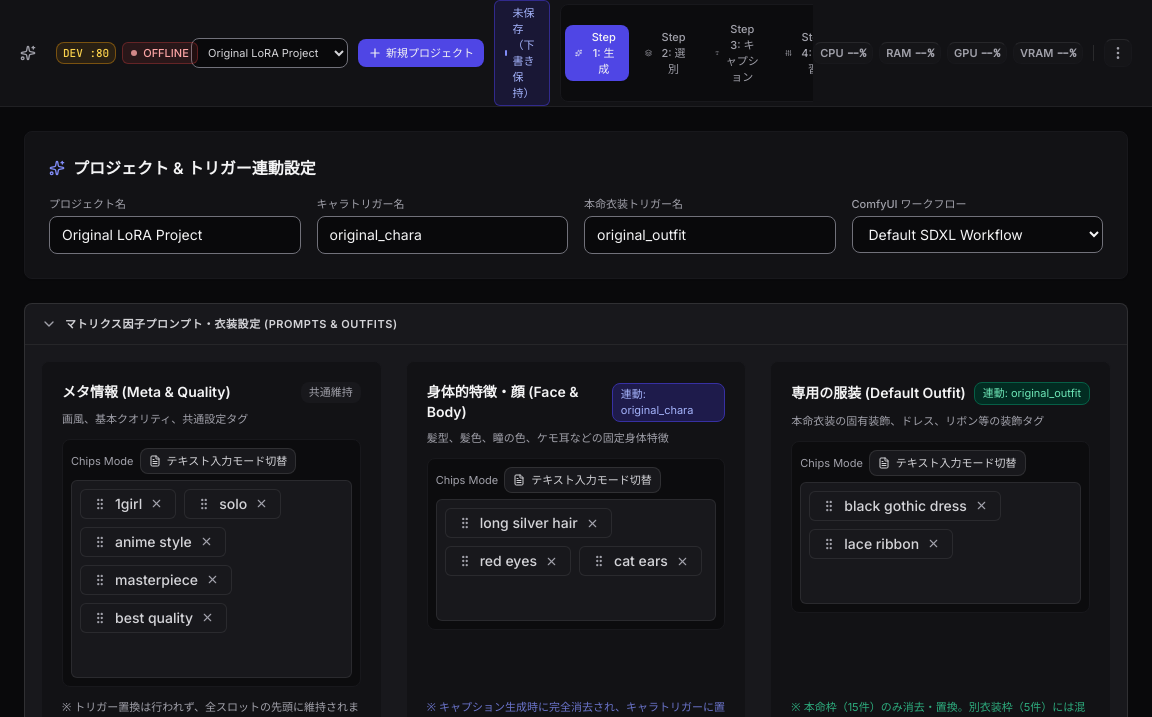
Scenario: REQ-323: E2E Autosave & Draft Recovery Lifecycle Suite › Test 4 (Red Team 1, 2): Quota Exceeded & Network Failure Resilience › transitions to error status and preserves draft when updateProject returns 500 (Red Team 2)
Check: the element with test id "autosave-status" reads "未保存（下書き保持）", box [512,6,534,100]
Modify form
Replace the text in the field with test id "character-trigger-input" with "unsaved_after_server_error": (442,235) [316,216,568,254]
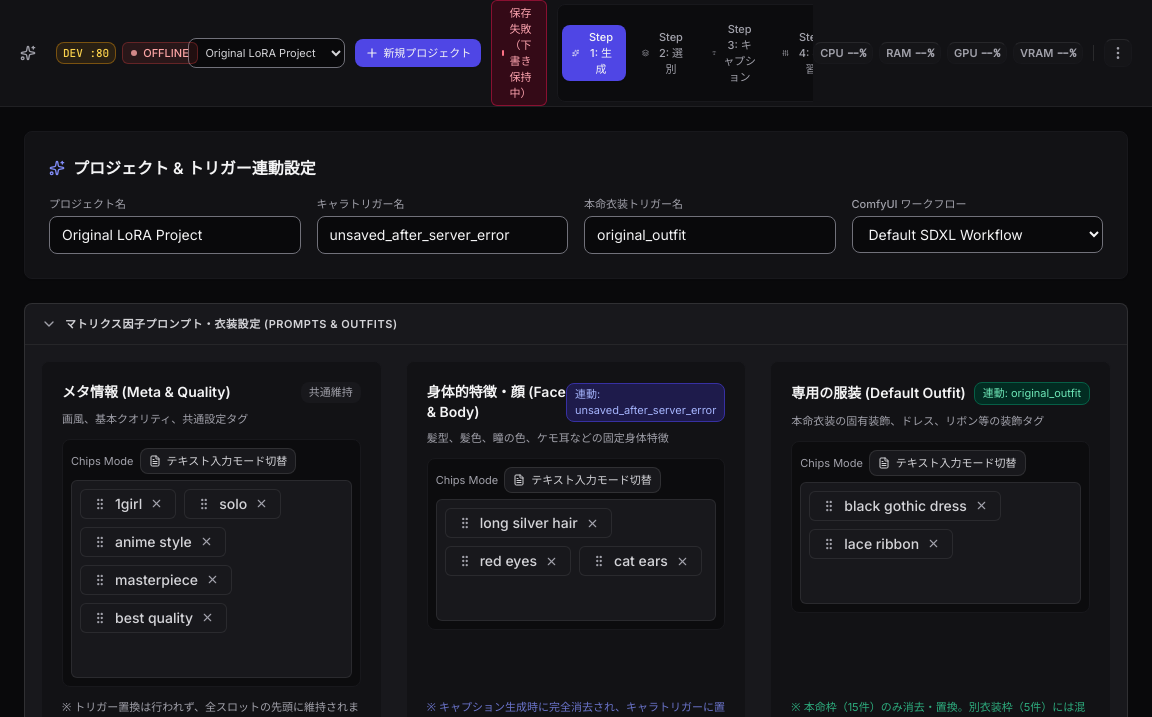
Check: the element with test id "autosave-status" shows "保存失敗", box [510,6,532,100]
